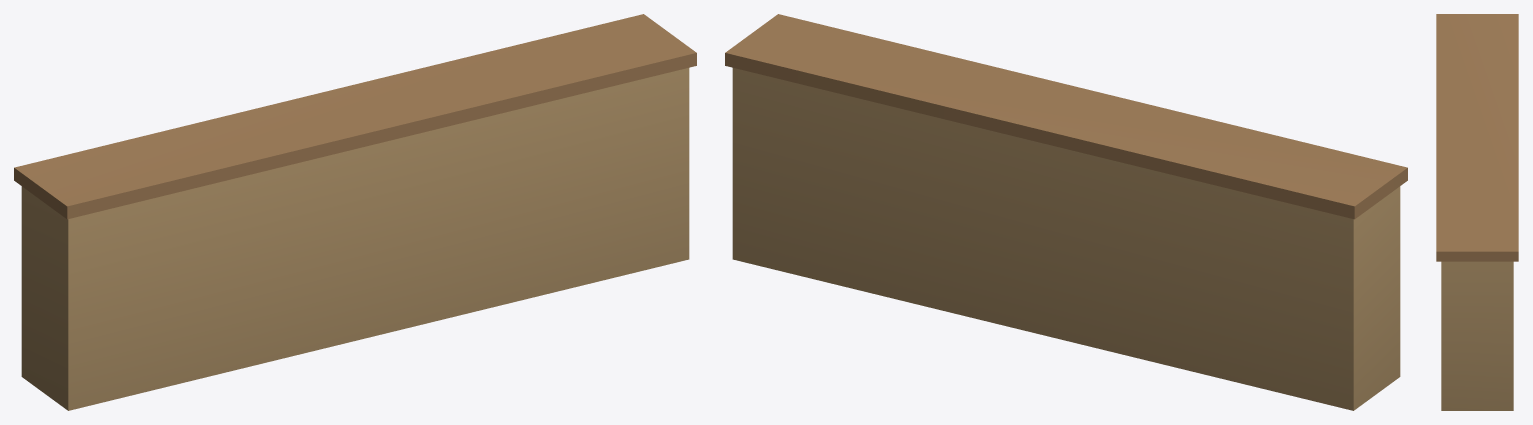
The model's file is moche_niche_wall_lod1.glb.
3 views of the same model, side by side, from view 1: azimuth 30°, elevation 25°; view 2: azimuth 150°, elevation 25°; view 3: azimuth 270°, elevation 25° (orthographic). The views are drawn at different scales.
Visible parts, largest first — view 1: GEO-Arch_moche_niche_wall_LOD1; view 2: GEO-Arch_moche_niche_wall_LOD1; view 3: GEO-Arch_moche_niche_wall_LOD1.
Boxes of the visible parts, left/top/right/bottom form: GEO-Arch_moche_niche_wall_LOD1: left=14, top=14, right=696, bottom=410; GEO-Arch_moche_niche_wall_LOD1: left=725, top=14, right=1407, bottom=410; GEO-Arch_moche_niche_wall_LOD1: left=1436, top=14, right=1518, bottom=410.
Bounding box in the file's own units: 10.14 × 3.2 × 1.48.
